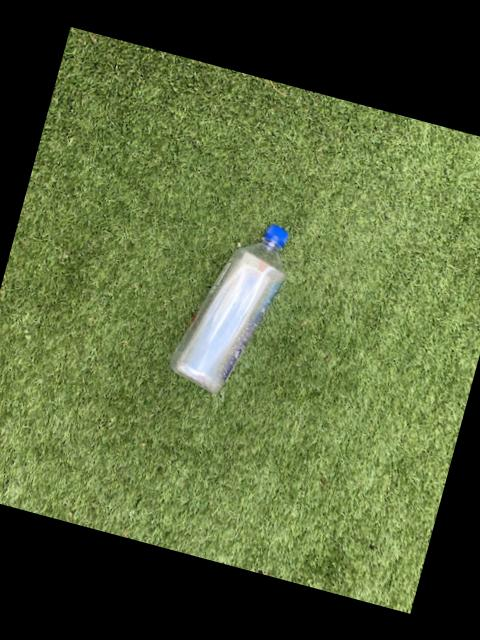plastic: (170, 223, 287, 390)
